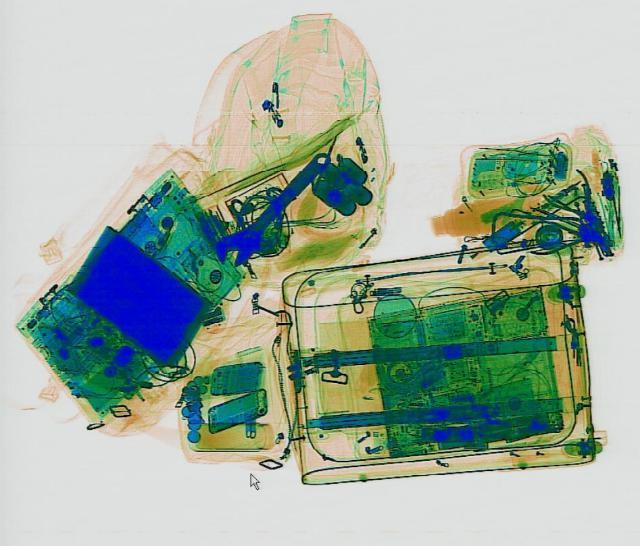Pliers: (536, 166, 618, 234)
Wrench: (204, 141, 336, 270)
